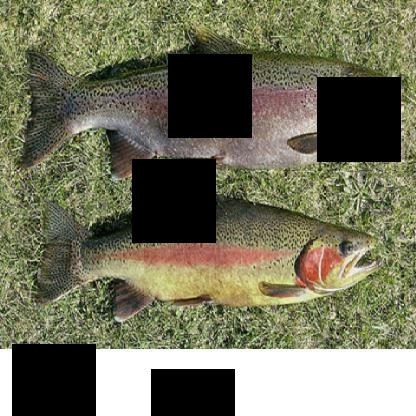fish: (24, 41, 407, 184), (24, 196, 377, 324)
